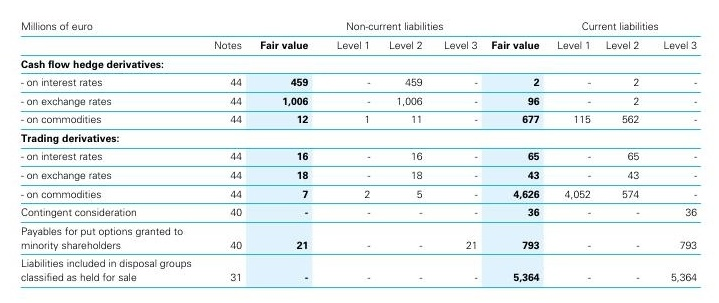table: (0, 0, 719, 303)
